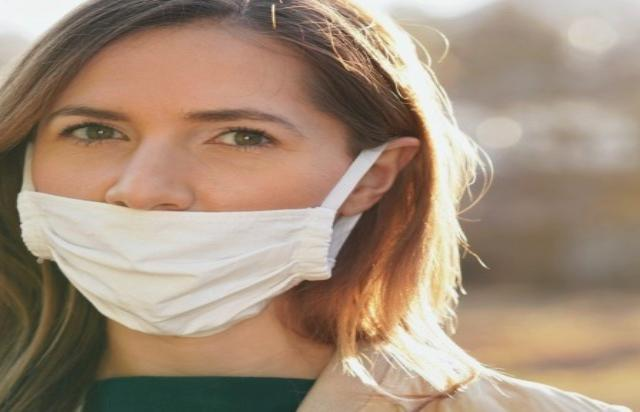mask_weared_incorrect: (14, 1, 459, 341)
